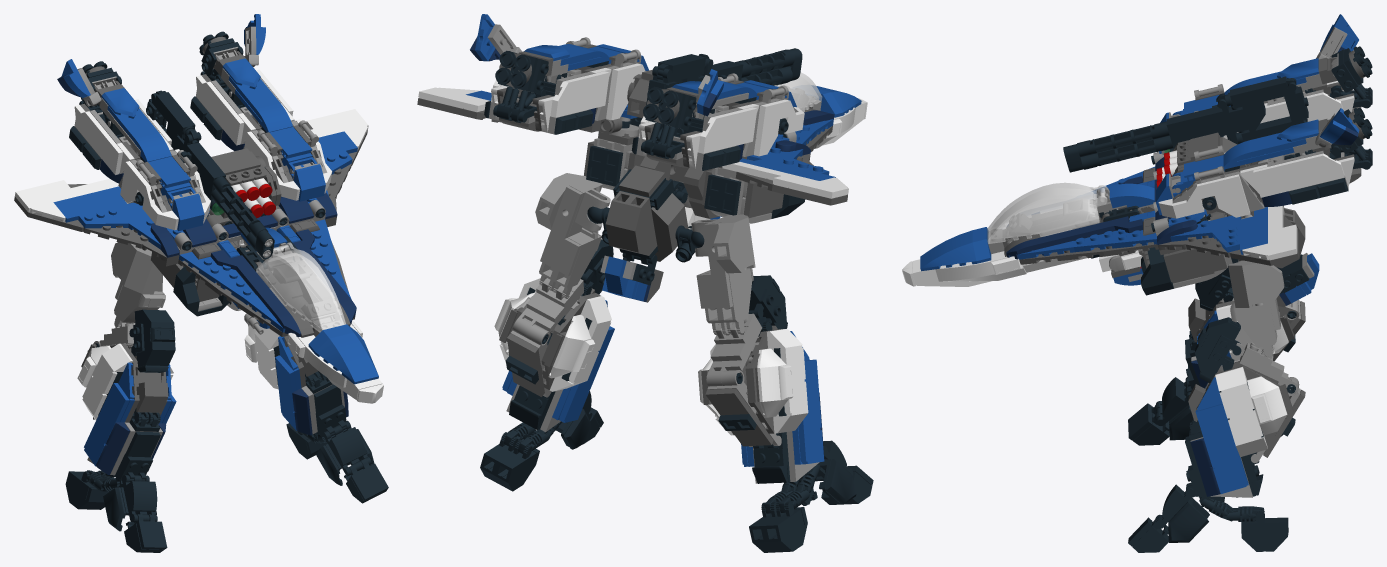
The model's file is afc-01h-legioss-gerwalk.dae.
3 views of the same model, side by side, from view 1: azimuth 30°, elevation 25°; view 2: azimuth 150°, elevation 25°; view 3: azimuth 270°, elevation 25° (orthographic). The views are drawn at different scales.
Bounding box in the file's own units: 560 × 649 × 663.
